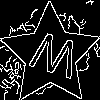W: (25, 30, 82, 89)
